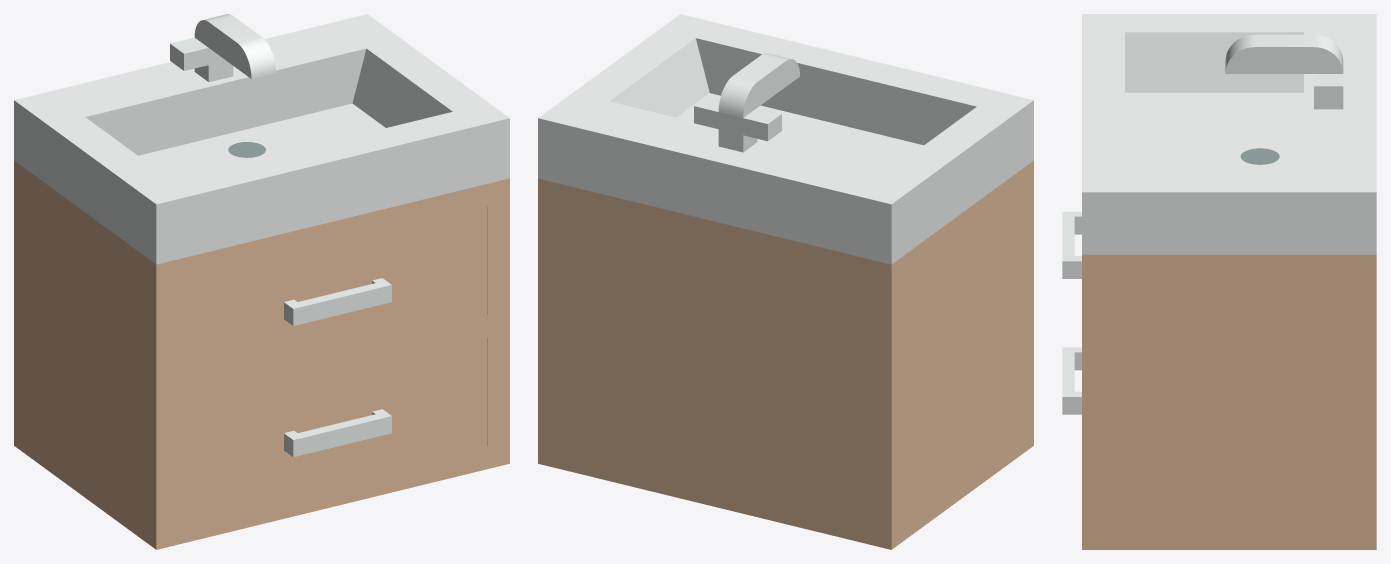
File: bathroomcabinetdrawer.glb
3 views of the same model, side by side, from view 1: azimuth 30°, elevation 25°; view 2: azimuth 150°, elevation 25°; view 3: azimuth 270°, elevation 25° (orthographic). The views are drawn at different scales.
Parts seen in each view (by area): view 1: Mesh bathroomCabinetDrawer, drawerBottom, drawerTop; view 2: Mesh bathroomCabinetDrawer; view 3: Mesh bathroomCabinetDrawer, drawerBottom, drawerTop.
Boxes of the visible parts, x1=… form: Mesh bathroomCabinetDrawer: x1=14, y1=14, x2=509, y2=549; drawerBottom: x1=178, y1=338, x2=487, y2=521; drawerTop: x1=178, y1=207, x2=487, y2=389; Mesh bathroomCabinetDrawer: x1=538, y1=14, x2=1033, y2=549; Mesh bathroomCabinetDrawer: x1=1082, y1=14, x2=1376, y2=549; drawerBottom: x1=1062, y1=347, x2=1081, y2=414; drawerTop: x1=1062, y1=211, x2=1081, y2=278.
Size of the model in its own units: 0.43 by 0.4718 by 0.32.
